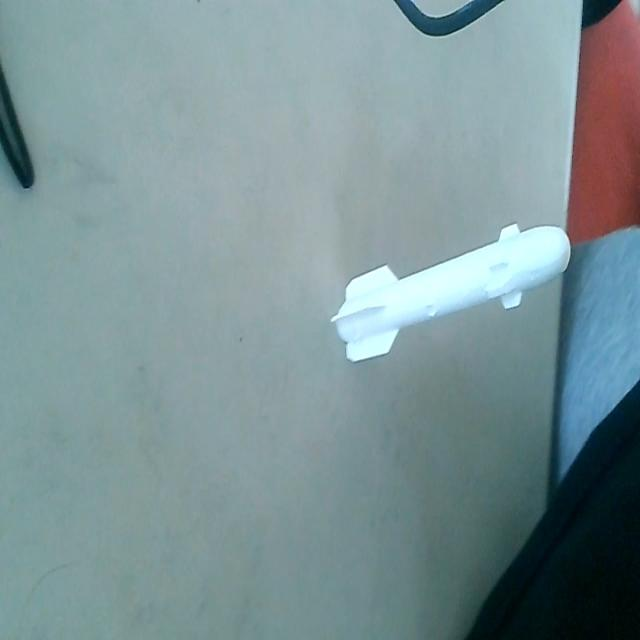Rocket: (332, 217, 574, 367)
